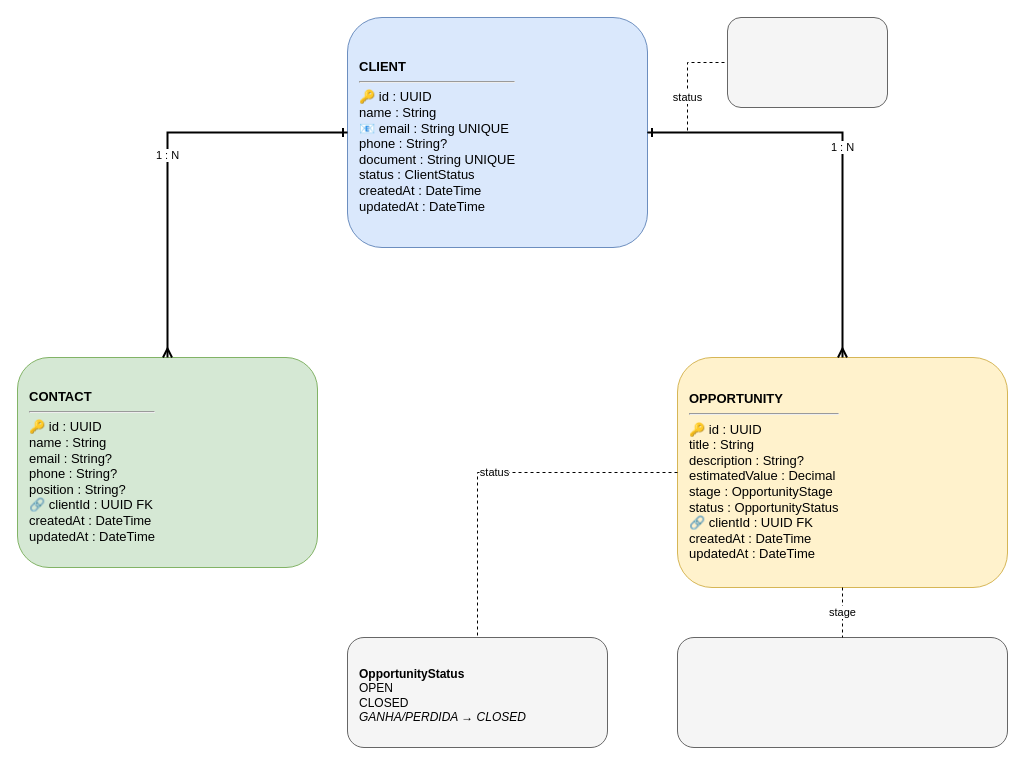
This 1025x765 diagram has some shape labels left out. Each missing label, with the centre of its shape:
"ClientStatus ACTIVE INACTIVE" goes at (807,62).
"OpportunityStage LEAD → QUALIFICACAO → PROPOSTA → NEGOCIACAO → GANHA / PERDIDA" goes at (842,692).
